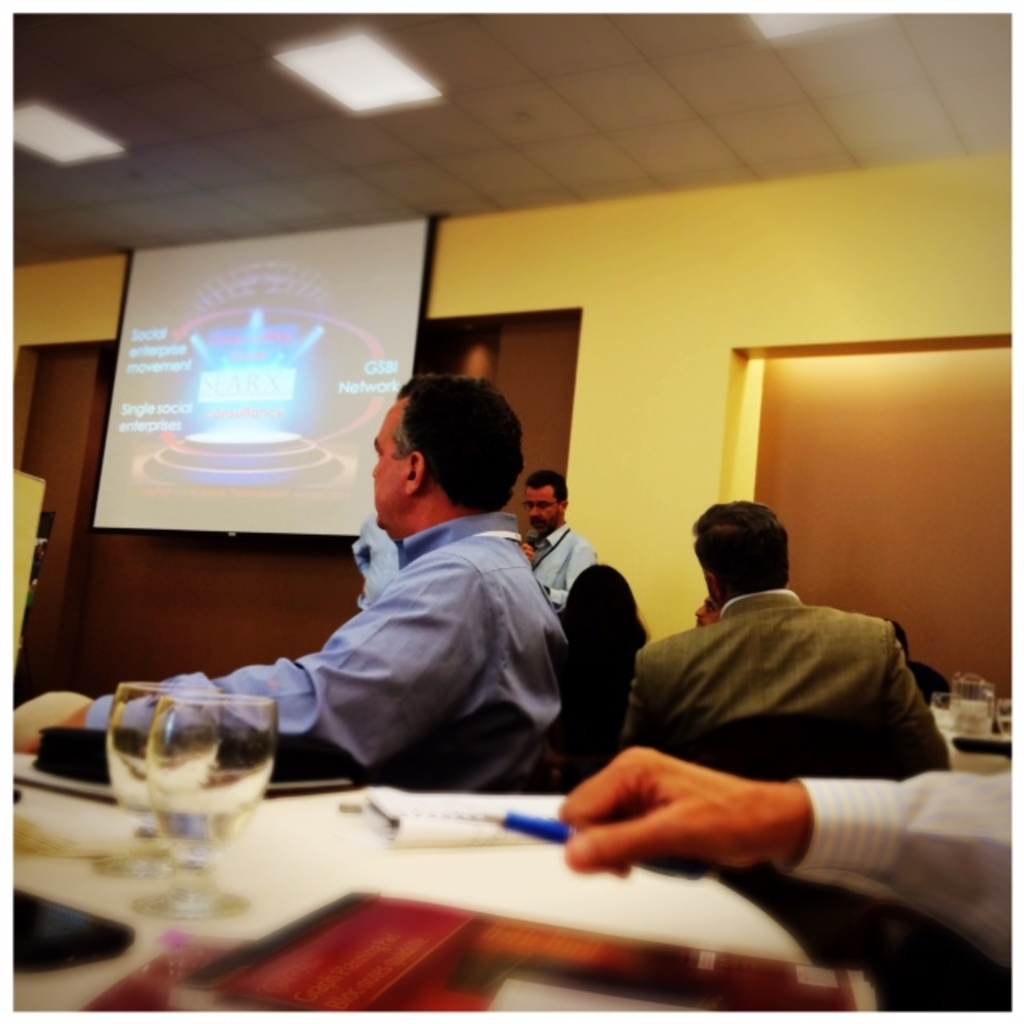Human_hand: (547, 746, 870, 901), (13, 688, 96, 752), (520, 538, 536, 557)
